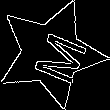M_NW: (18, 23, 84, 84)
